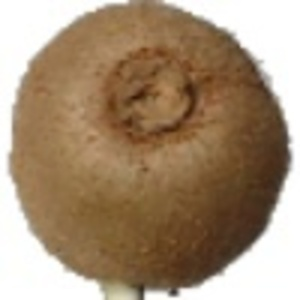kiwi: (7, 1, 292, 300)
